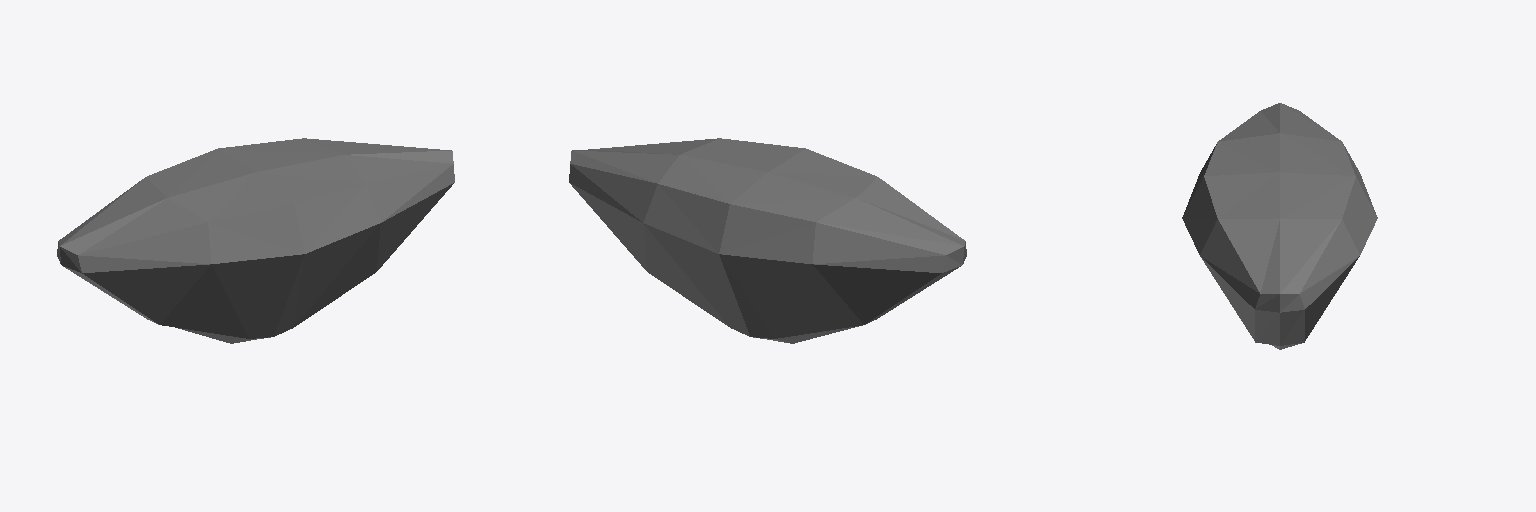
The model's file is type-a-pommel.obj.
3 views of the same model, side by side, from view 1: azimuth 30°, elevation 25°; view 2: azimuth 150°, elevation 25°; view 3: azimuth 270°, elevation 25° (orthographic).
Size of the model in its own units: 3.41 by 1.39 by 1.47.